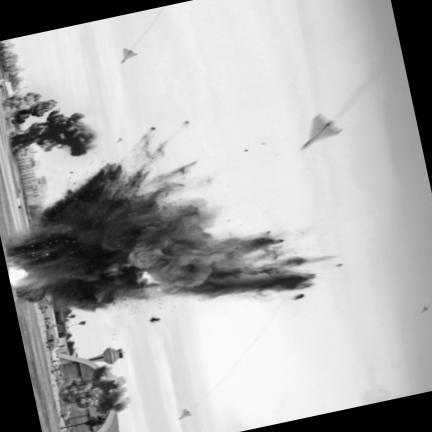Shahed: (301, 114, 341, 149), (121, 48, 135, 62), (178, 409, 190, 418), (421, 306, 427, 311)
